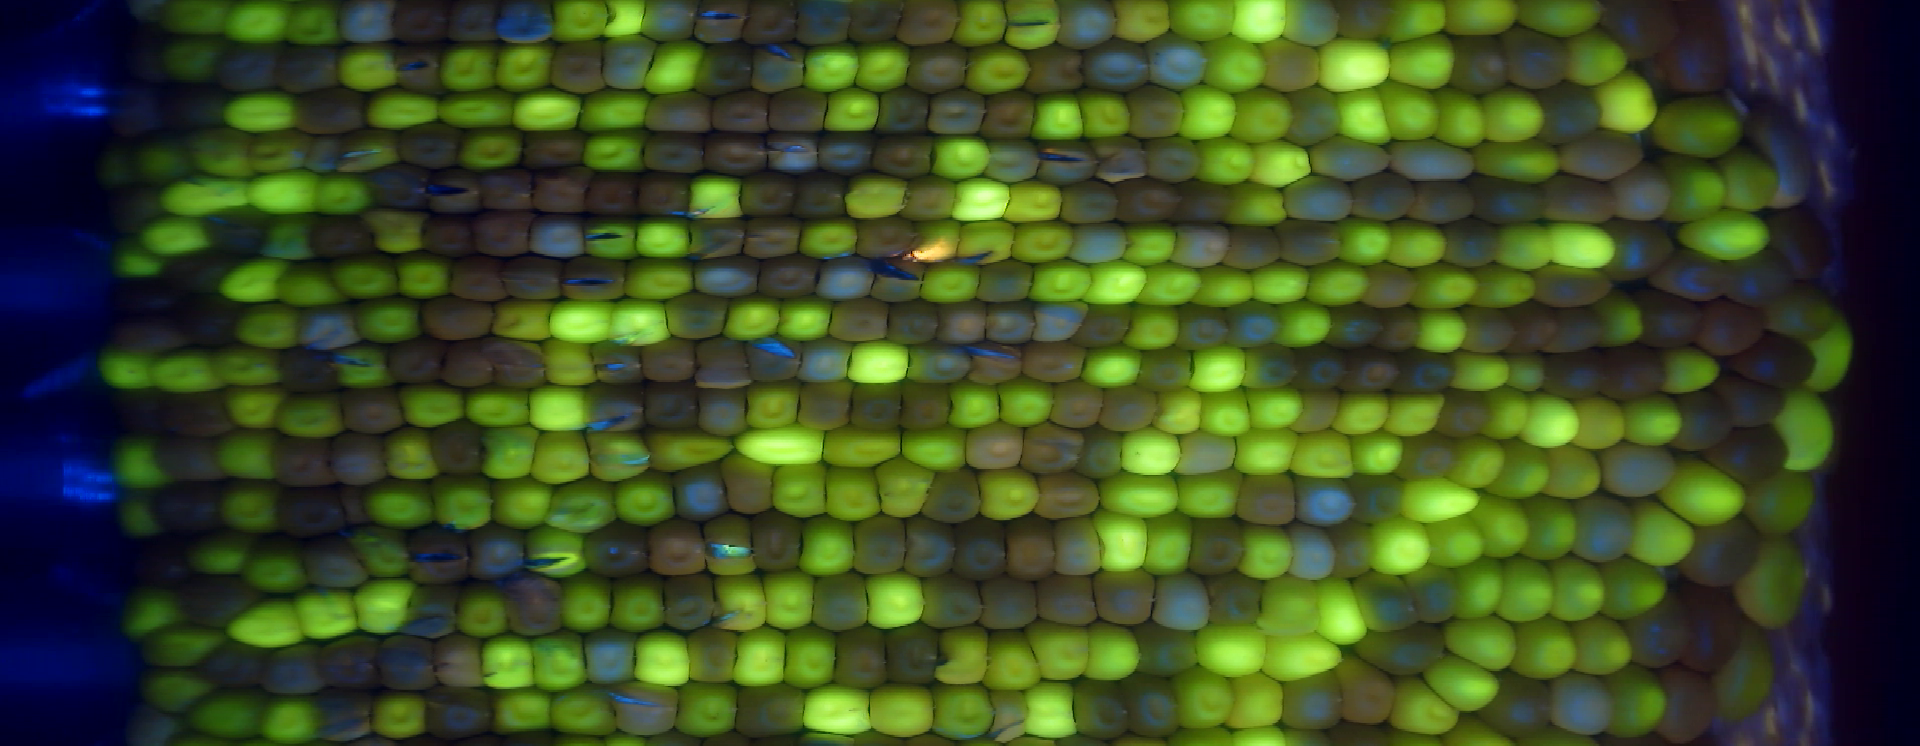fluorescent: (1735, 530, 1807, 630), (1657, 454, 1750, 524), (1651, 94, 1744, 154), (1600, 663, 1669, 741), (1718, 625, 1773, 722), (1772, 388, 1834, 472), (1419, 652, 1502, 710), (1659, 152, 1727, 220), (1260, 628, 1343, 684), (1745, 472, 1816, 535), (1626, 502, 1697, 566), (1371, 77, 1442, 141), (1191, 619, 1267, 677), (1387, 675, 1463, 734), (1441, 617, 1522, 671), (1675, 214, 1776, 257), (1716, 145, 1780, 211), (1026, 614, 1087, 682), (1599, 559, 1669, 619), (136, 663, 220, 712), (1319, 36, 1392, 92), (1480, 83, 1548, 145), (227, 597, 309, 647), (1469, 138, 1561, 183), (929, 680, 997, 740), (1511, 619, 1580, 677), (1318, 576, 1375, 646), (1499, 552, 1555, 624), (291, 587, 367, 639), (1545, 559, 1608, 622), (362, 479, 440, 530), (672, 677, 741, 735), (1589, 75, 1659, 131), (528, 630, 591, 691), (710, 571, 771, 635), (1389, 33, 1452, 94), (933, 624, 993, 688), (1168, 669, 1236, 726), (1095, 473, 1184, 516), (819, 423, 909, 465), (864, 681, 936, 735), (546, 478, 617, 532), (1258, 576, 1320, 637), (983, 625, 1044, 687), (735, 423, 827, 464), (1491, 439, 1551, 502), (184, 688, 266, 735), (1090, 510, 1149, 575), (433, 474, 498, 533), (345, 523, 413, 579), (802, 682, 876, 734), (1618, 393, 1686, 448), (872, 461, 934, 521), (861, 570, 926, 627), (631, 627, 696, 685), (219, 479, 284, 537), (475, 633, 542, 688), (190, 126, 258, 180), (1561, 31, 1630, 85), (550, 685, 623, 735), (1548, 218, 1618, 271), (351, 579, 414, 638), (1569, 615, 1632, 673), (1286, 431, 1360, 480), (1202, 36, 1267, 92), (1433, 83, 1489, 148), (609, 572, 669, 632), (1022, 680, 1082, 740), (1522, 497, 1581, 559), (247, 534, 309, 593), (1400, 477, 1485, 518), (328, 254, 403, 301), (1407, 262, 1482, 310), (1382, 387, 1449, 441), (347, 296, 427, 341), (362, 85, 443, 129), (973, 467, 1041, 519), (898, 423, 973, 469), (824, 462, 884, 521), (1540, 443, 1602, 501), (770, 461, 831, 518), (557, 573, 613, 636), (760, 570, 817, 632), (786, 624, 840, 688), (216, 428, 280, 481), (523, 523, 590, 575), (218, 254, 285, 305), (1521, 390, 1580, 448), (1569, 392, 1629, 450), (1191, 382, 1253, 439), (964, 43, 1032, 93), (1369, 519, 1431, 575), (231, 303, 307, 348), (457, 122, 527, 171), (1809, 314, 1851, 393), (394, 382, 471, 426), (1084, 622, 1140, 682), (580, 127, 653, 174), (655, 428, 733, 470), (245, 171, 323, 214), (1476, 499, 1528, 562), (489, 475, 553, 527), (489, 685, 558, 733), (1117, 428, 1187, 475), (277, 260, 347, 307), (138, 625, 229, 661), (1231, 671, 1288, 729), (733, 627, 790, 686), (1177, 83, 1236, 140), (160, 178, 247, 216), (478, 424, 539, 478), (392, 247, 454, 300), (621, 254, 689, 301), (138, 216, 219, 256), (1231, 426, 1300, 473), (1338, 87, 1395, 145), (1660, 345, 1727, 394), (845, 171, 911, 220), (120, 589, 187, 637), (1190, 135, 1258, 183), (276, 394, 350, 437), (337, 40, 400, 91), (1491, 220, 1555, 271), (1247, 140, 1315, 186), (1119, 303, 1184, 352), (457, 583, 514, 638), (1233, 88, 1291, 143), (337, 127, 407, 173), (1177, 473, 1243, 521), (684, 169, 746, 220), (1335, 216, 1396, 267), (615, 474, 677, 524), (1468, 263, 1539, 307), (609, 296, 672, 345), (437, 89, 517, 129), (222, 92, 296, 134), (844, 339, 912, 385), (546, 296, 615, 342), (1516, 1, 1607, 36), (645, 39, 703, 93), (994, 380, 1059, 428), (149, 349, 222, 392), (114, 432, 167, 491), (1078, 343, 1144, 390), (1387, 217, 1449, 267), (438, 44, 502, 92), (1592, 293, 1647, 348), (1427, 514, 1482, 570), (1451, 562, 1505, 619), (1449, 434, 1502, 490), (1239, 526, 1296, 579), (1029, 89, 1087, 141), (800, 519, 853, 575), (855, 39, 911, 92), (1141, 262, 1205, 309), (1482, 385, 1532, 443), (1089, 256, 1147, 306), (1187, 345, 1251, 391), (797, 216, 862, 261), (1307, 261, 1371, 306), (1245, 381, 1305, 430), (1144, 514, 1193, 575), (820, 85, 880, 134), (1075, 89, 1135, 138), (249, 127, 310, 175), (513, 89, 585, 130), (1272, 303, 1338, 347), (1224, 183, 1291, 227), (531, 431, 587, 484), (380, 431, 438, 480), (580, 89, 651, 130), (931, 131, 991, 179), (496, 43, 557, 89), (223, 1, 289, 44), (1228, 1, 1291, 47), (1195, 265, 1258, 310), (802, 40, 858, 91), (491, 295, 555, 339), (465, 385, 533, 426), (222, 381, 282, 428), (369, 208, 429, 255), (1011, 220, 1076, 263), (1027, 261, 1096, 301), (525, 386, 588, 430), (955, 220, 1018, 265), (1168, 1, 1234, 43), (1119, 222, 1182, 266), (579, 212, 637, 260), (722, 292, 781, 338), (1333, 390, 1393, 435), (1386, 1, 1447, 45), (157, 1, 233, 37), (182, 533, 251, 572), (1439, 1, 1517, 36), (333, 343, 391, 390), (283, 1, 340, 48), (315, 170, 373, 216), (912, 216, 962, 268), (1414, 307, 1469, 355), (632, 212, 687, 260), (920, 260, 981, 303), (1449, 352, 1513, 392), (743, 383, 802, 428), (1000, 1, 1056, 48), (216, 345, 283, 383), (541, 339, 598, 385), (945, 383, 1003, 428), (780, 295, 838, 339), (951, 176, 1009, 220), (371, 691, 430, 734), (162, 40, 220, 83), (110, 238, 170, 279), (264, 696, 320, 741), (135, 143, 198, 183), (1348, 432, 1406, 475), (99, 345, 157, 388), (1004, 179, 1059, 222), (1111, 1, 1171, 40), (1438, 717, 1517, 746), (87, 142, 136, 190), (1251, 265, 1311, 303), (954, 1, 1007, 44), (553, 1, 607, 43), (1157, 388, 1201, 436), (118, 496, 165, 539), (602, 1, 647, 36), (1164, 725, 1237, 746), (1523, 729, 1591, 746), (169, 729, 233, 746), (1229, 726, 1287, 745), (1387, 729, 1441, 746), (598, 729, 649, 746), (557, 733, 615, 746)
nonfluorescent: (1682, 514, 1761, 590), (1678, 584, 1741, 674), (1760, 107, 1812, 209), (1353, 624, 1447, 677), (1626, 589, 1690, 669), (1598, 1, 1680, 61), (1599, 216, 1674, 281), (1656, 663, 1716, 741), (1772, 205, 1834, 279), (1330, 654, 1395, 725), (1708, 424, 1788, 481), (1556, 127, 1644, 179), (1731, 338, 1820, 390), (1483, 671, 1550, 737), (1501, 24, 1570, 89), (178, 575, 262, 627), (1665, 28, 1730, 96), (1536, 83, 1607, 145), (1389, 134, 1479, 181), (1711, 372, 1785, 430), (1473, 171, 1553, 225), (1078, 36, 1153, 92), (501, 571, 567, 635), (1599, 440, 1674, 496), (1633, 288, 1702, 349), (1569, 492, 1629, 562), (1727, 247, 1791, 311), (1600, 342, 1667, 404), (269, 431, 340, 489), (609, 677, 680, 735), (1540, 175, 1621, 225), (1669, 390, 1731, 454), (1651, 247, 1724, 303), (1764, 282, 1834, 339), (1349, 573, 1419, 631), (416, 295, 502, 342), (213, 40, 285, 96), (849, 512, 913, 573), (484, 334, 550, 394), (289, 85, 370, 134), (1697, 298, 1764, 356), (1131, 619, 1199, 677), (1122, 670, 1180, 737), (1090, 567, 1158, 625), (1033, 571, 1102, 628), (883, 620, 940, 688), (1280, 669, 1343, 730), (950, 514, 1010, 579), (999, 514, 1059, 579), (178, 294, 245, 352), (149, 481, 228, 530), (831, 627, 893, 690), (549, 36, 612, 96), (718, 451, 778, 514), (1187, 512, 1247, 576), (732, 685, 808, 735), (1346, 168, 1418, 220), (157, 80, 231, 130), (921, 465, 984, 524), (920, 571, 984, 628), (1280, 174, 1356, 223), (160, 391, 240, 437), (1307, 134, 1392, 176), (1068, 677, 1129, 737), (1529, 265, 1618, 306), (647, 517, 709, 576), (407, 527, 469, 586), (811, 575, 874, 632), (1149, 571, 1212, 628), (976, 575, 1040, 632), (585, 521, 651, 576), (1018, 423, 1086, 475), (693, 334, 754, 393), (397, 119, 467, 170), (1401, 566, 1464, 622), (1611, 167, 1676, 222), (704, 510, 759, 575), (1029, 470, 1100, 521), (1233, 472, 1299, 526), (261, 642, 327, 696), (302, 534, 369, 588), (1033, 135, 1101, 187), (1409, 176, 1477, 229), (502, 254, 571, 305), (560, 254, 628, 305), (200, 639, 268, 691), (403, 579, 463, 638), (1202, 570, 1264, 627), (664, 292, 733, 342), (741, 333, 806, 387), (962, 419, 1029, 472), (765, 82, 833, 134), (1450, 37, 1510, 94), (670, 464, 730, 522), (469, 521, 529, 578), (1123, 82, 1185, 137), (662, 570, 718, 632), (691, 254, 764, 300), (274, 44, 340, 96), (280, 488, 351, 535), (422, 686, 493, 734), (153, 435, 228, 480), (1284, 521, 1342, 579), (116, 24, 171, 86), (874, 83, 936, 138), (749, 40, 811, 96), (905, 42, 969, 94), (1539, 347, 1604, 398), (1273, 219, 1347, 265), (427, 418, 484, 477), (684, 625, 741, 684), (380, 635, 440, 690), (580, 628, 640, 684), (708, 88, 779, 135), (310, 211, 381, 257), (869, 134, 940, 180), (749, 507, 802, 570), (1259, 40, 1322, 92), (1019, 338, 1087, 386), (702, 132, 774, 178), (1237, 343, 1302, 393), (321, 639, 386, 690), (902, 518, 959, 576), (1051, 518, 1107, 576), (1294, 472, 1353, 527), (431, 633, 490, 688), (694, 42, 756, 94), (1114, 176, 1182, 224), (277, 348, 344, 396), (637, 336, 704, 383), (1140, 131, 1202, 183), (338, 388, 410, 432), (756, 251, 820, 300), (397, 40, 452, 98), (972, 257, 1038, 305), (1439, 214, 1500, 266), (448, 254, 511, 304), (583, 383, 647, 432), (639, 89, 716, 130), (696, 383, 751, 440), (317, 685, 373, 740), (531, 165, 589, 219), (1048, 379, 1106, 432), (1434, 387, 1493, 440), (111, 314, 190, 353), (924, 87, 987, 136), (1291, 85, 1340, 147), (902, 341, 973, 383), (1056, 1, 1119, 49), (1176, 176, 1234, 228), (167, 251, 235, 295), (331, 434, 389, 485), (795, 382, 855, 432), (474, 209, 535, 258), (204, 211, 271, 256), (389, 339, 456, 385), (1133, 348, 1199, 393), (1171, 432, 1240, 475), (420, 212, 482, 260), (852, 216, 920, 260), (111, 276, 185, 316), (978, 87, 1035, 140), (789, 1, 857, 44), (1060, 176, 1120, 225), (133, 539, 193, 588), (107, 82, 160, 136), (1080, 299, 1135, 352), (1174, 300, 1232, 350), (370, 165, 433, 211), (790, 174, 853, 219), (1460, 305, 1518, 354), (642, 379, 700, 428), (900, 173, 960, 220), (742, 214, 802, 262), (589, 341, 649, 388), (643, 132, 708, 176), (827, 296, 891, 341), (983, 138, 1044, 185), (965, 341, 1026, 387), (934, 296, 989, 348), (479, 165, 535, 216), (899, 379, 955, 429), (1344, 472, 1402, 521), (1024, 47, 1082, 94), (1090, 135, 1149, 183), (896, 1, 956, 48), (389, 1, 454, 44), (525, 214, 590, 257), (495, 1, 560, 44), (737, 171, 798, 217), (1360, 263, 1422, 309), (1398, 432, 1455, 481), (334, 1, 397, 45), (1324, 518, 1371, 576), (817, 130, 876, 176), (1223, 223, 1282, 269), (737, 1, 801, 44), (764, 132, 824, 178), (1030, 298, 1090, 343), (1324, 303, 1384, 348), (887, 298, 940, 348), (688, 218, 749, 262), (427, 167, 484, 214), (869, 256, 927, 303), (1344, 349, 1402, 396), (516, 129, 588, 165), (585, 170, 640, 218), (800, 336, 855, 383), (1550, 305, 1605, 353), (1294, 344, 1349, 392), (1397, 352, 1458, 394), (982, 298, 1038, 344), (842, 1, 900, 47), (1282, 1, 1340, 47), (1224, 303, 1282, 348), (1171, 222, 1229, 266), (852, 382, 904, 432), (107, 184, 162, 230), (638, 171, 693, 218), (1102, 387, 1158, 432), (444, 338, 493, 390), (447, 1, 504, 44), (116, 390, 167, 439), (120, 702, 179, 744), (693, 1, 749, 44), (639, 1, 700, 40), (1291, 388, 1340, 436), (1505, 305, 1554, 352), (1078, 430, 1127, 477), (1071, 222, 1127, 262), (1338, 1, 1392, 39), (1378, 309, 1420, 349), (340, 485, 375, 529), (1329, 724, 1385, 746), (498, 730, 560, 745), (1600, 733, 1656, 746), (649, 733, 700, 746), (707, 733, 757, 746), (1109, 734, 1171, 745), (753, 730, 797, 745), (1056, 736, 1113, 746)
